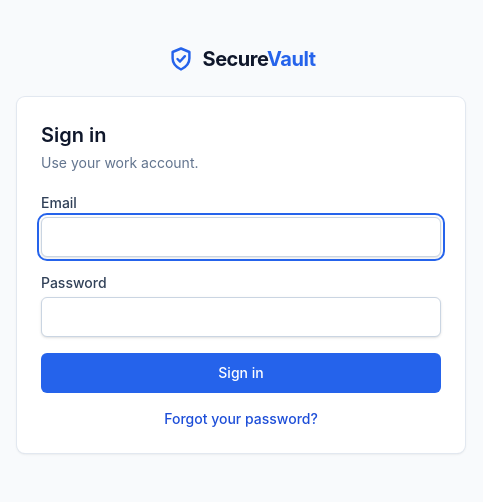
Test: sign-in › shows the server's generic error and does not reveal which part was wrong
The image size is (483, 502).
In the field labelled "Email": (241, 237) [41,217,441,257], type "eve@acme.test"
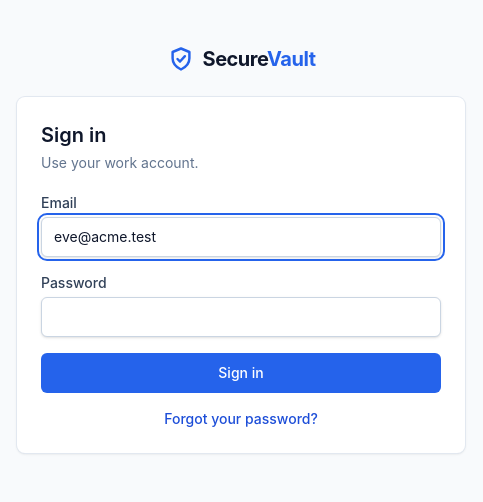
In the password field labelled "Password": (241, 317) [41,297,441,337], type "wrong-password"
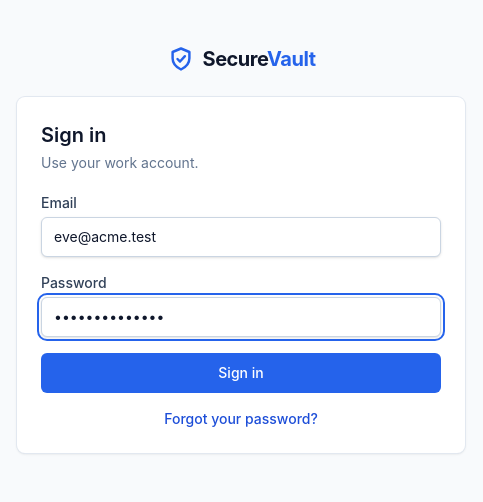
Click the button "Sign in": click(241, 373) [41,353,441,393]
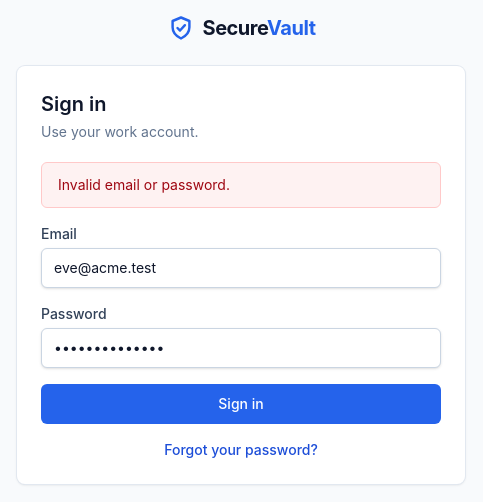
Now the message reads "Invalid email or password.", box [58,176,230,193]
